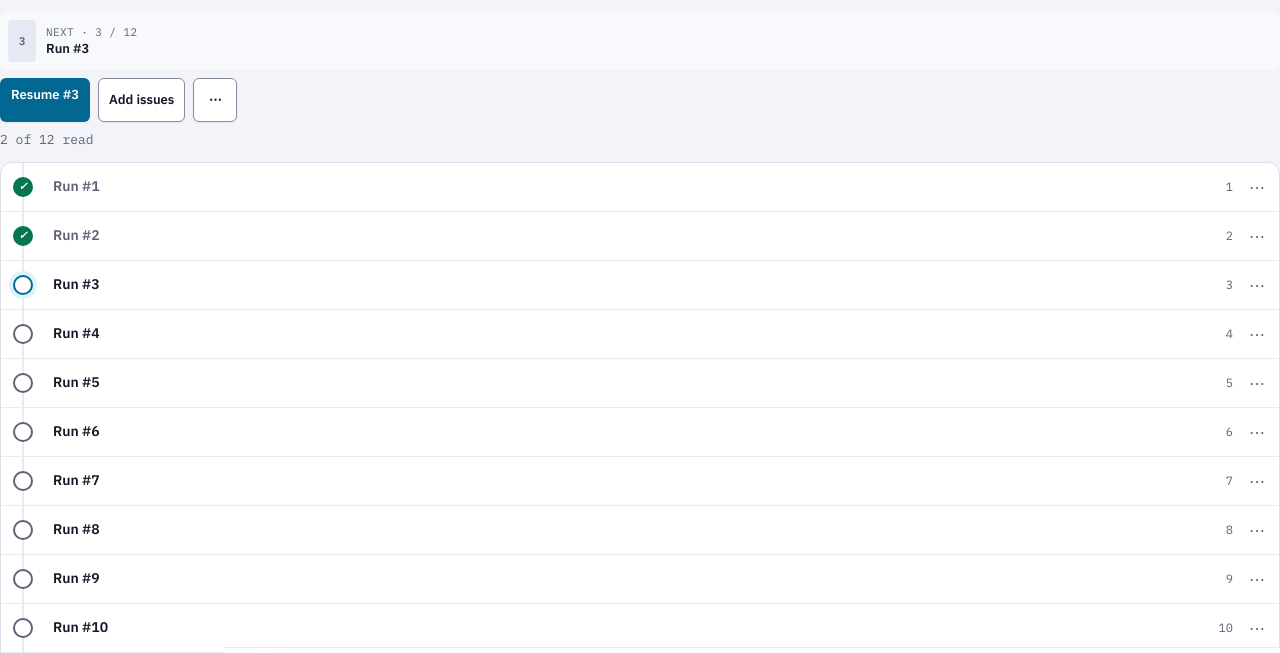
Test: selecting a range by touch › each row's menu offers Mark everything through here
The image size is (1280, 653).
Click the button with class "rowmenu-btn" in the row of "Run #6" at (1257, 432), box 1241,416 -> 1273,448
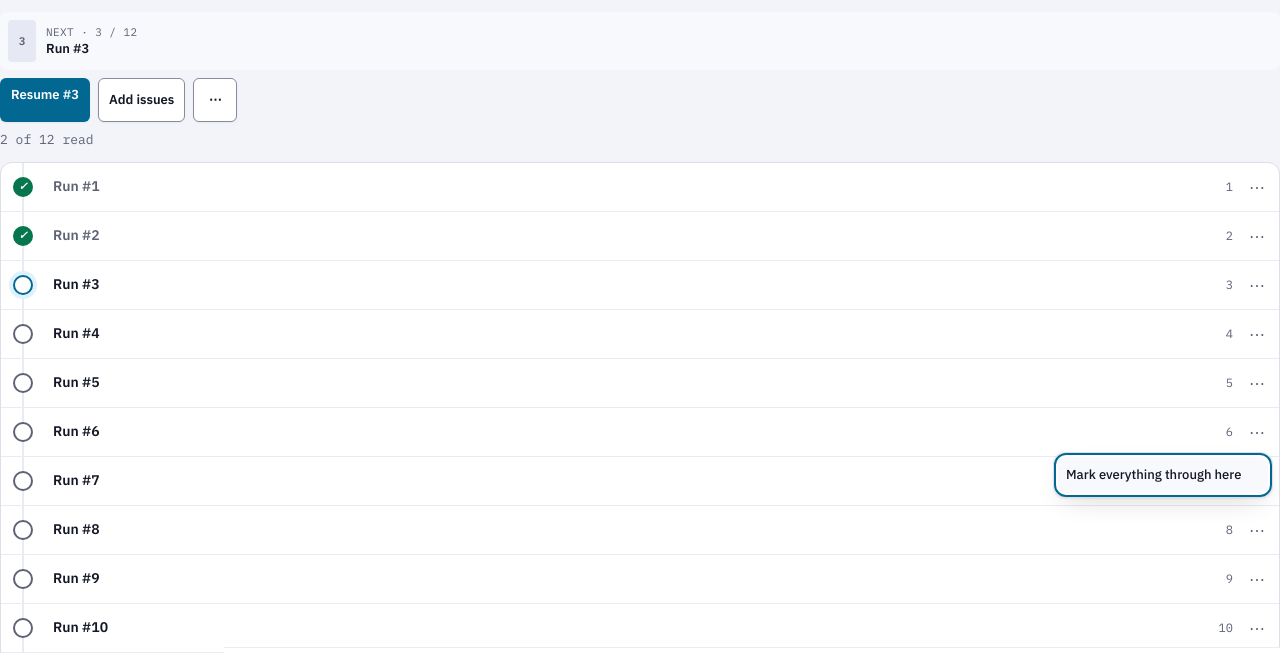
Result: the menu item "Mark everything through here" is shown
Click the menu item "Mark everything through here" at (1163, 474), box 1058,456 -> 1268,492
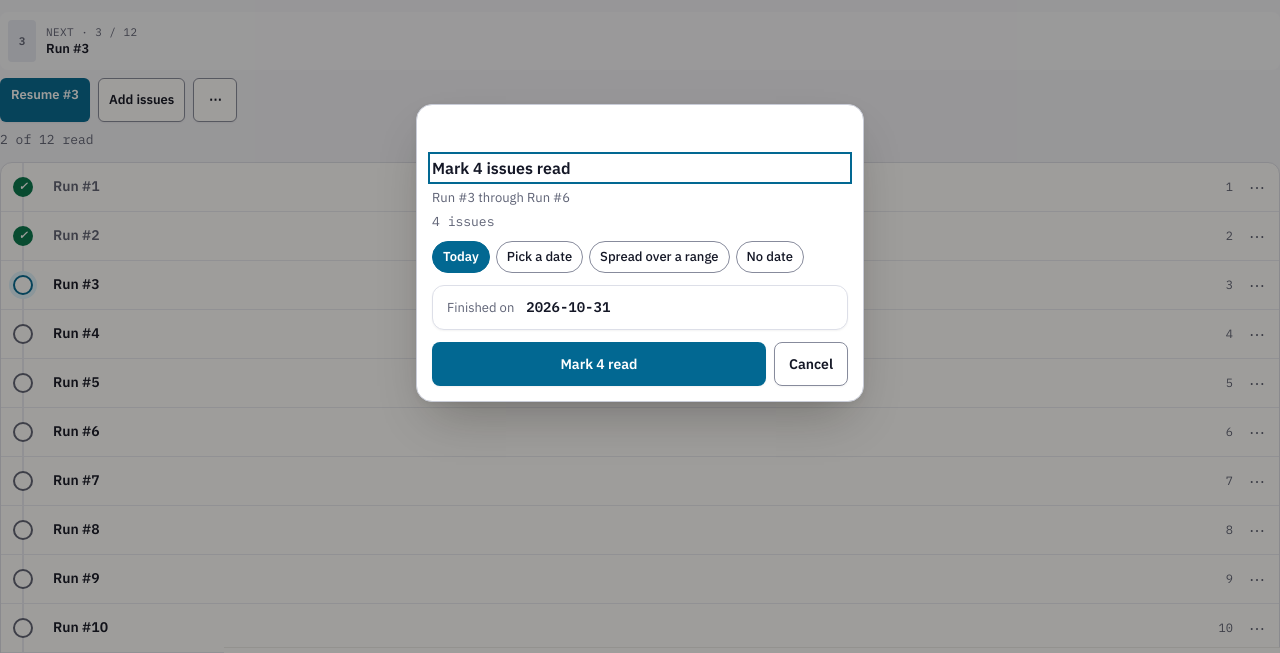
Result: the heading "Mark 4 issues read" is shown at 432,158 -> 570,178
